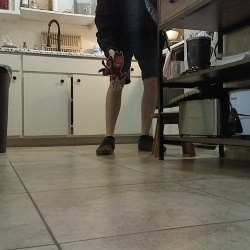sparky: (97, 49, 127, 91)
